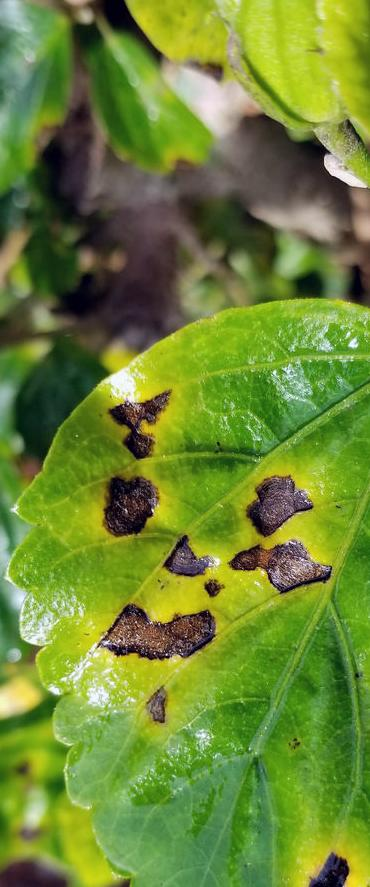Tomato leaf bacterial spot: (0, 297, 370, 887)
